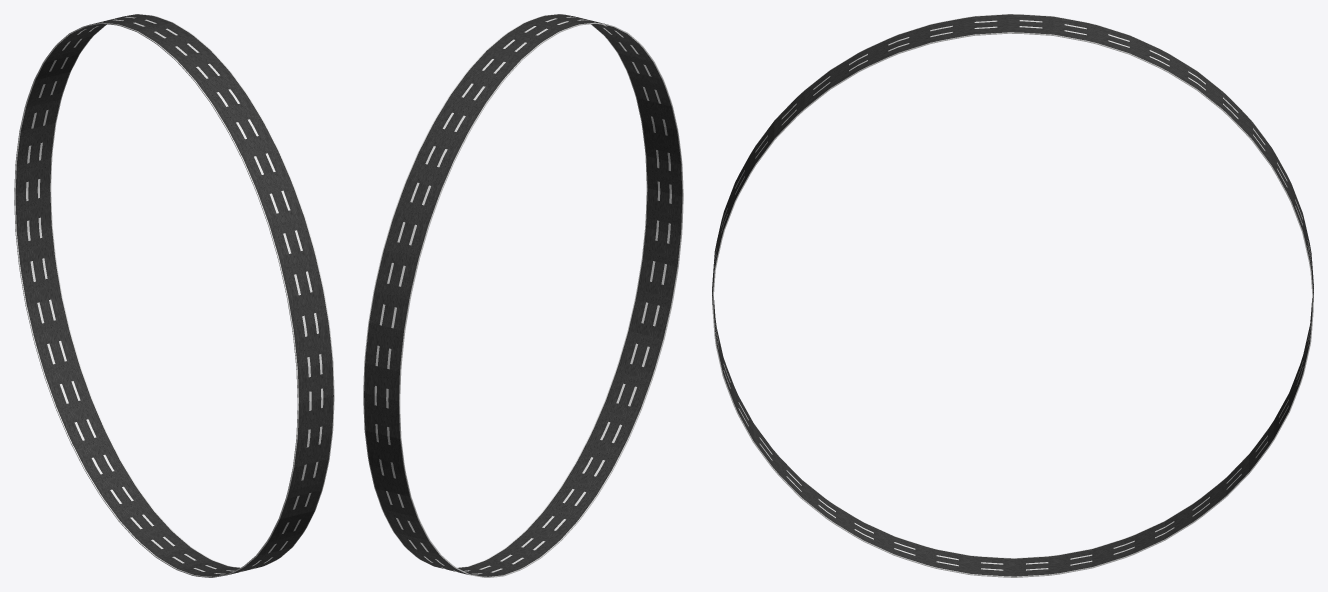
File: Street UV map.fbx
3 renders of one model, left to right at view 1: azimuth 30°, elevation 25°; view 2: azimuth 150°, elevation 25°; view 3: azimuth 270°, elevation 25°, orthographic. The views are drawn at different scales.
Parts seen in each view (by area): view 1: Cube.001; view 2: Cube.001; view 3: Cube.001.
Boxes of the visible parts, x1,y1,x2,y2 form: Cube.001: (14, 14, 334, 577); Cube.001: (363, 14, 683, 577); Cube.001: (712, 14, 1313, 577).
Bounding box in the file's own units: 1785 × 24023 × 24032.
